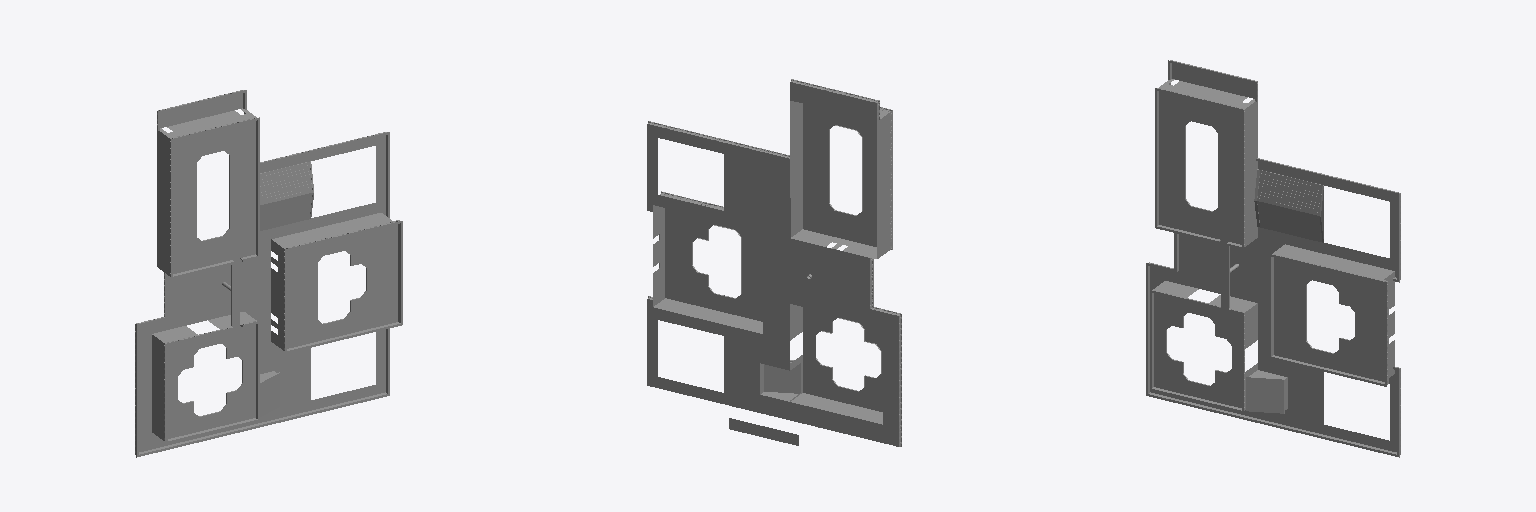
Rendered from aucman_roof_setpiece.obj.
The picture shows the model from 3 angles: view 1: azimuth 30°, elevation 25°; view 2: azimuth 150°, elevation 25°; view 3: azimuth 330°, elevation 25°; orthographic projection.
Parts seen in each view (by area): view 1: g_mkp, g_ext_wall, g_rooftiles, g_rooffloor; view 2: g_rooffloor, g_mkp, g_ext_wall, g_rooftiles; view 3: g_mkp, g_rooftiles, g_ext_wall, g_rooffloor.
Part boxes in pixels (left/top/right/bottom): g_mkp: left=135, top=90, right=402, bottom=457; g_ext_wall: left=152, top=108, right=398, bottom=440; g_rooftiles: left=260, top=162, right=312, bottom=416; g_rooffloor: left=139, top=259, right=385, bottom=451; g_rooffloor: left=647, top=82, right=898, bottom=445; g_mkp: left=647, top=79, right=901, bottom=446; g_ext_wall: left=653, top=101, right=889, bottom=419; g_rooftiles: left=764, top=360, right=800, bottom=393; g_mkp: left=1146, top=60, right=1400, bottom=457; g_rooftiles: left=1246, top=170, right=1322, bottom=413; g_ext_wall: left=1153, top=79, right=1394, bottom=409; g_rooffloor: left=1150, top=241, right=1396, bottom=451.
Bounding box in the file's own units: 4665 × 6170 × 1270.